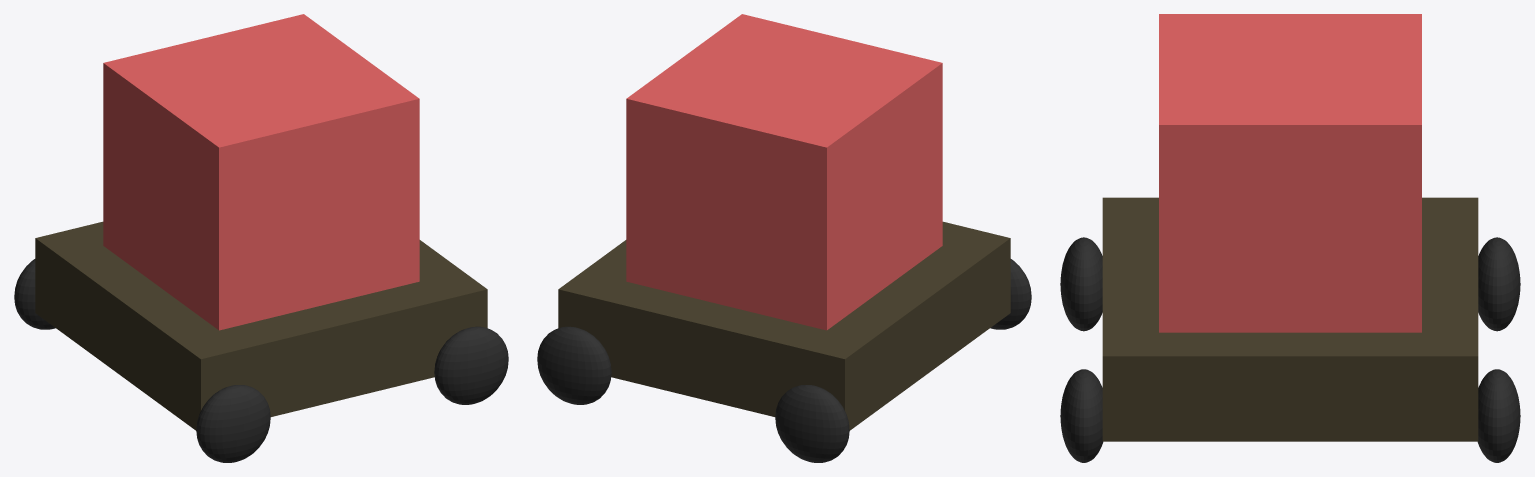
File: mobs.fbx
3 renders of one model, left to right at view 1: azimuth 30°, elevation 25°; view 2: azimuth 150°, elevation 25°; view 3: azimuth 270°, elevation 25°, orthographic. The views are drawn at different scales.
Visible parts, largest first — view 1: Cube, Sphere.001, Sphere, Sphere.003; view 2: Cube, Sphere.002, Sphere.003, Sphere; view 3: Cube, Sphere.003, Sphere, Sphere.002, Sphere.001.
Part boxes in pixels (x1,y1,x2,y2): Cube: (35,14,487,430); Sphere.001: (434,326,508,404); Sphere: (196,385,270,462); Sphere.003: (14,259,55,329); Cube: (558,14,1010,430); Sphere.002: (537,326,611,404); Sphere.003: (775,385,849,462); Sphere: (990,259,1031,329); Cube: (1102,14,1478,441); Sphere.003: (1478,237,1520,331); Sphere: (1060,237,1102,331); Sphere.002: (1477,369,1520,462); Sphere.001: (1060,369,1103,462).
Size of the model in its own units: 216 by 190 by 245.
